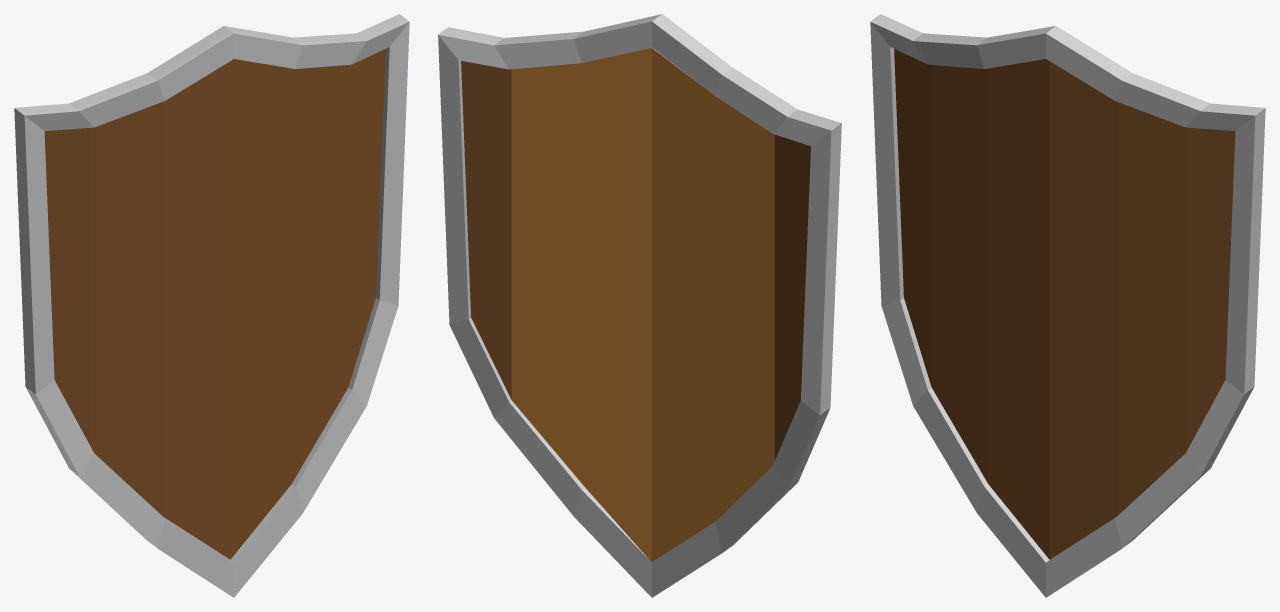
The model's file is LowPolyShield.fbx.
3 views of the same model, side by side, from view 1: azimuth 30°, elevation 25°; view 2: azimuth 150°, elevation 25°; view 3: azimuth 330°, elevation 25° (orthographic). The views are drawn at different scales.
Visible parts, largest first — view 1: Plane; view 2: Plane; view 3: Plane.
Part boxes in pixels (x1=…): Plane: x1=14, y1=14, x2=409, y2=597; Plane: x1=438, y1=14, x2=841, y2=597; Plane: x1=870, y1=14, x2=1265, y2=597.
Bounding box in the file's own units: 403 × 565 × 49.24.
